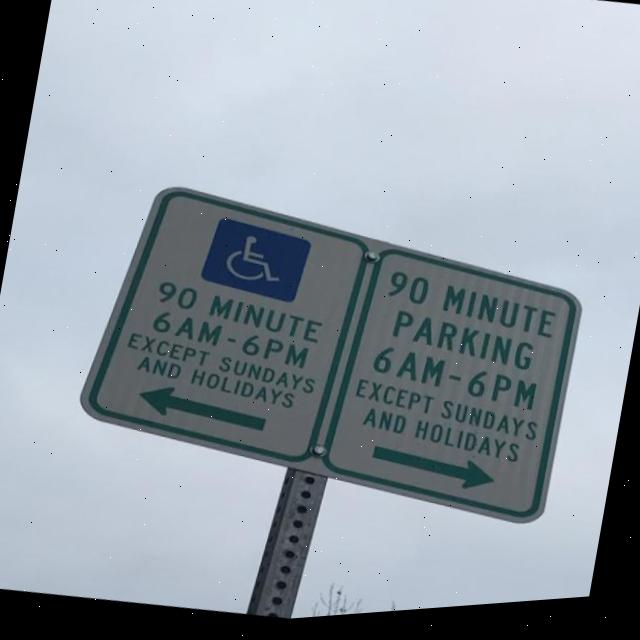symbol_of_access: (205, 217, 307, 306)
